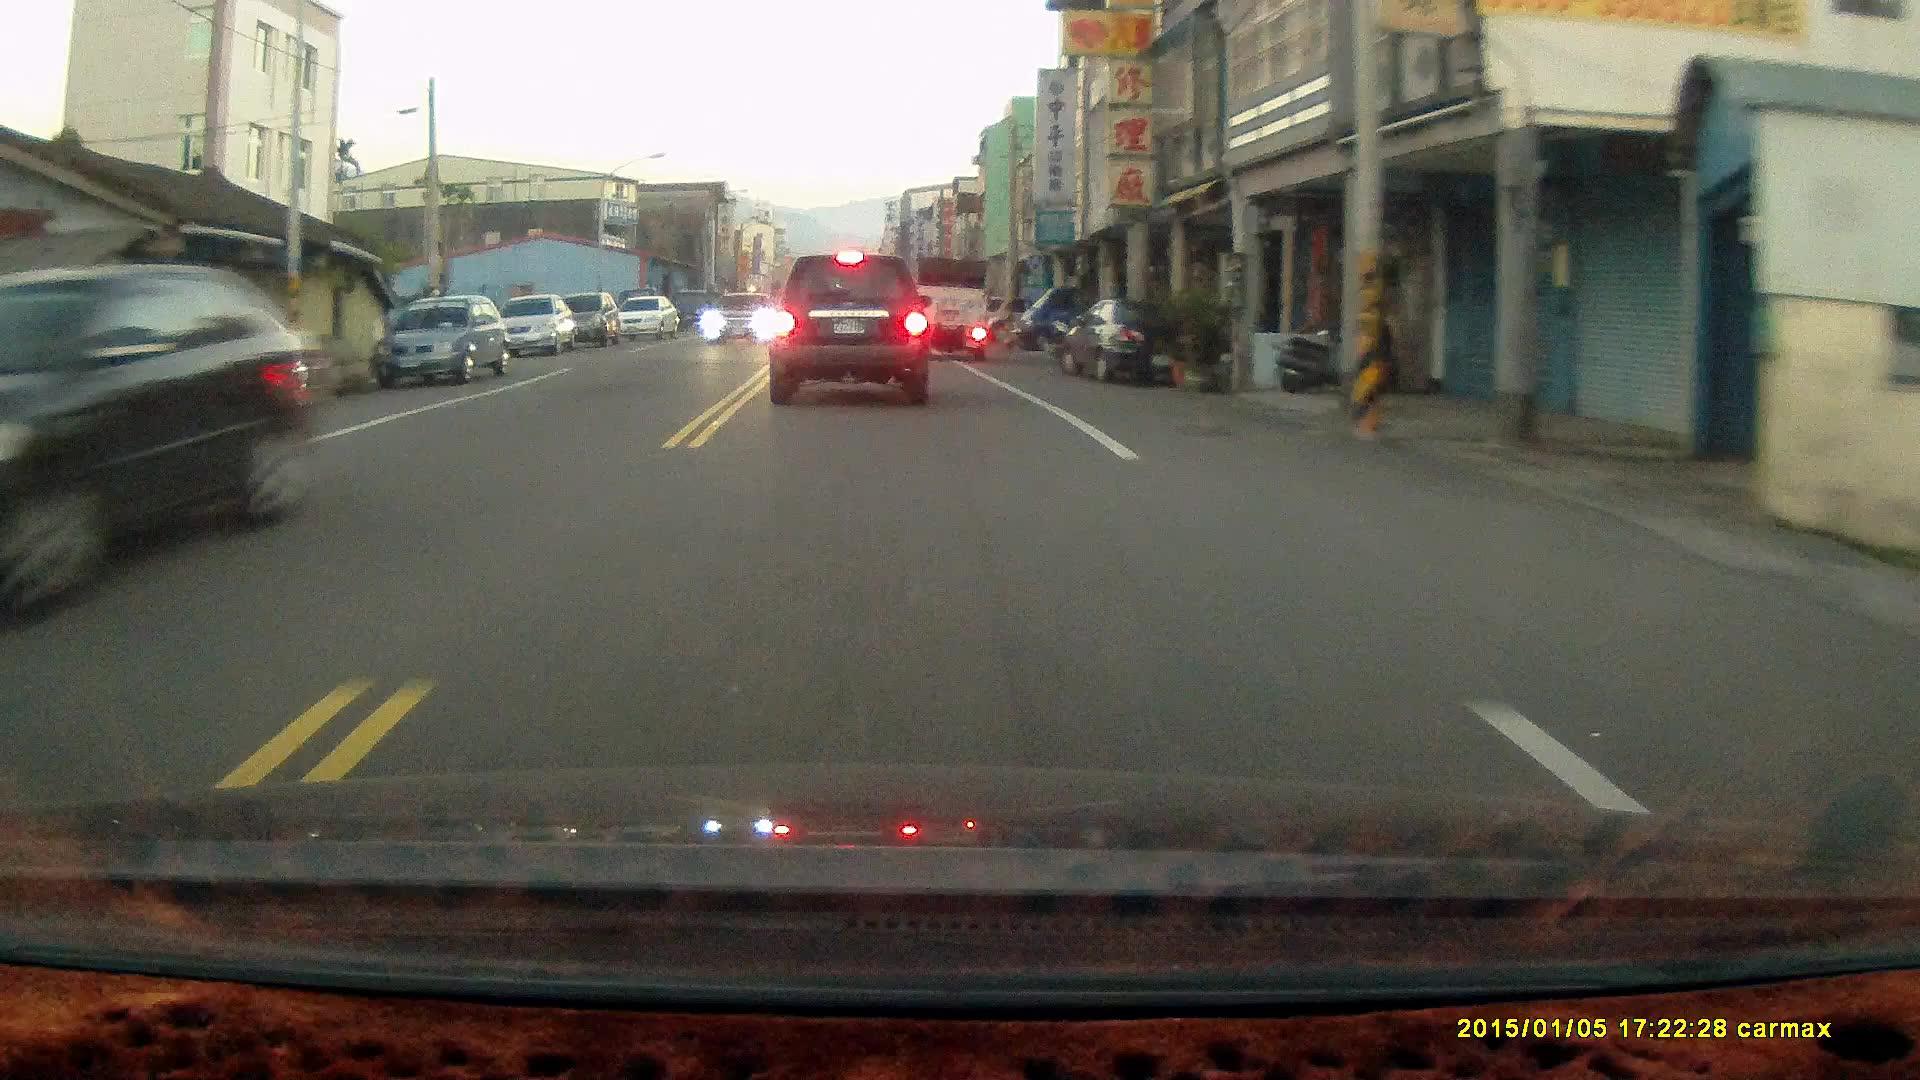vehicle: (1, 261, 314, 626), (767, 251, 932, 407), (1062, 295, 1209, 384), (376, 295, 512, 386), (903, 256, 996, 367), (1018, 280, 1135, 356), (498, 294, 574, 357), (549, 291, 622, 345), (703, 293, 778, 345), (613, 297, 684, 347)
